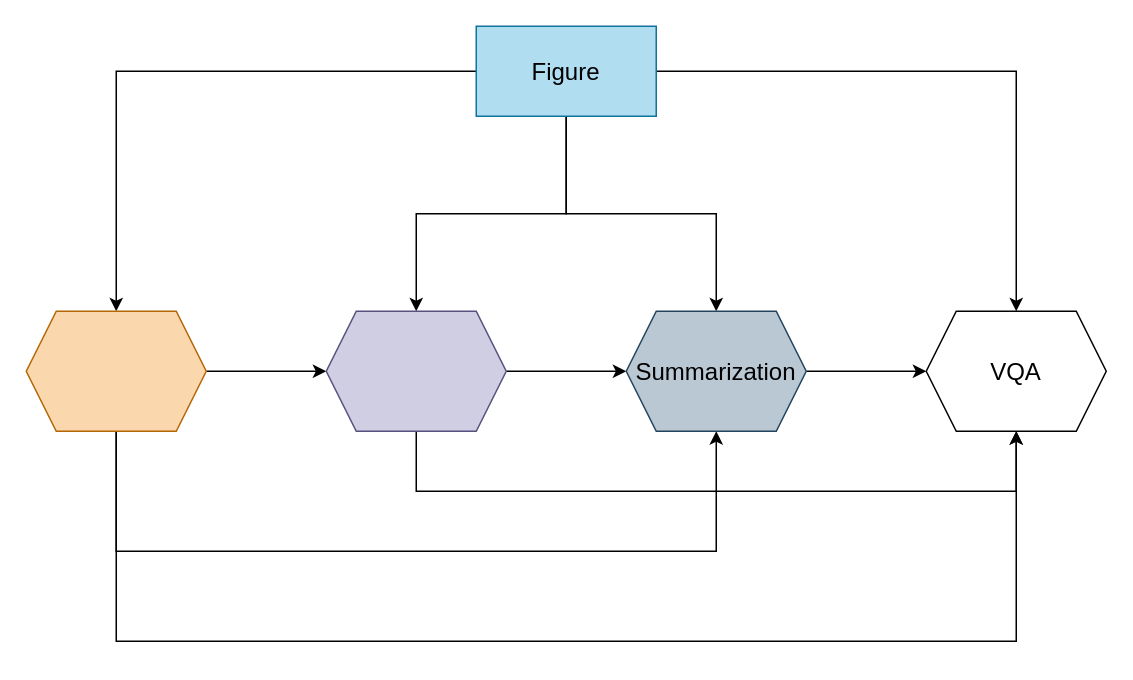
Some shapes in this 1133 by 680 pixel diagram are drawn without their labels. The centre of each missing label's shape, as x and y in pixels:
Classification: point (115, 370)
Data Table Extraction: point (415, 370)
